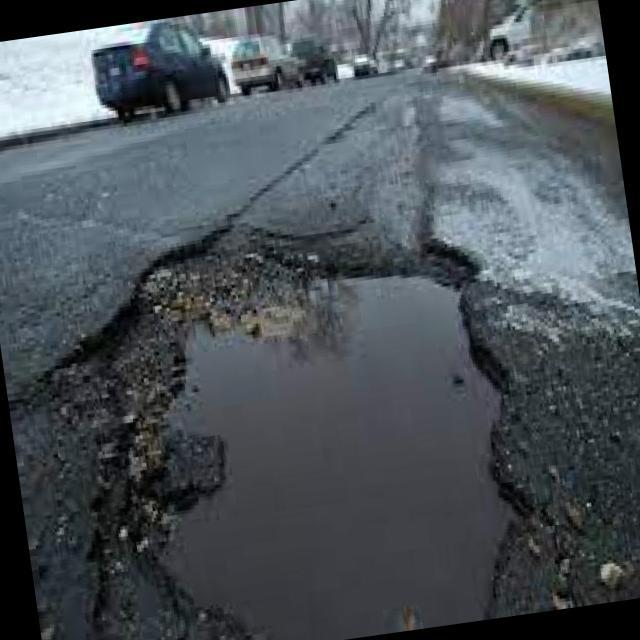Pothole: (83, 256, 507, 640)
